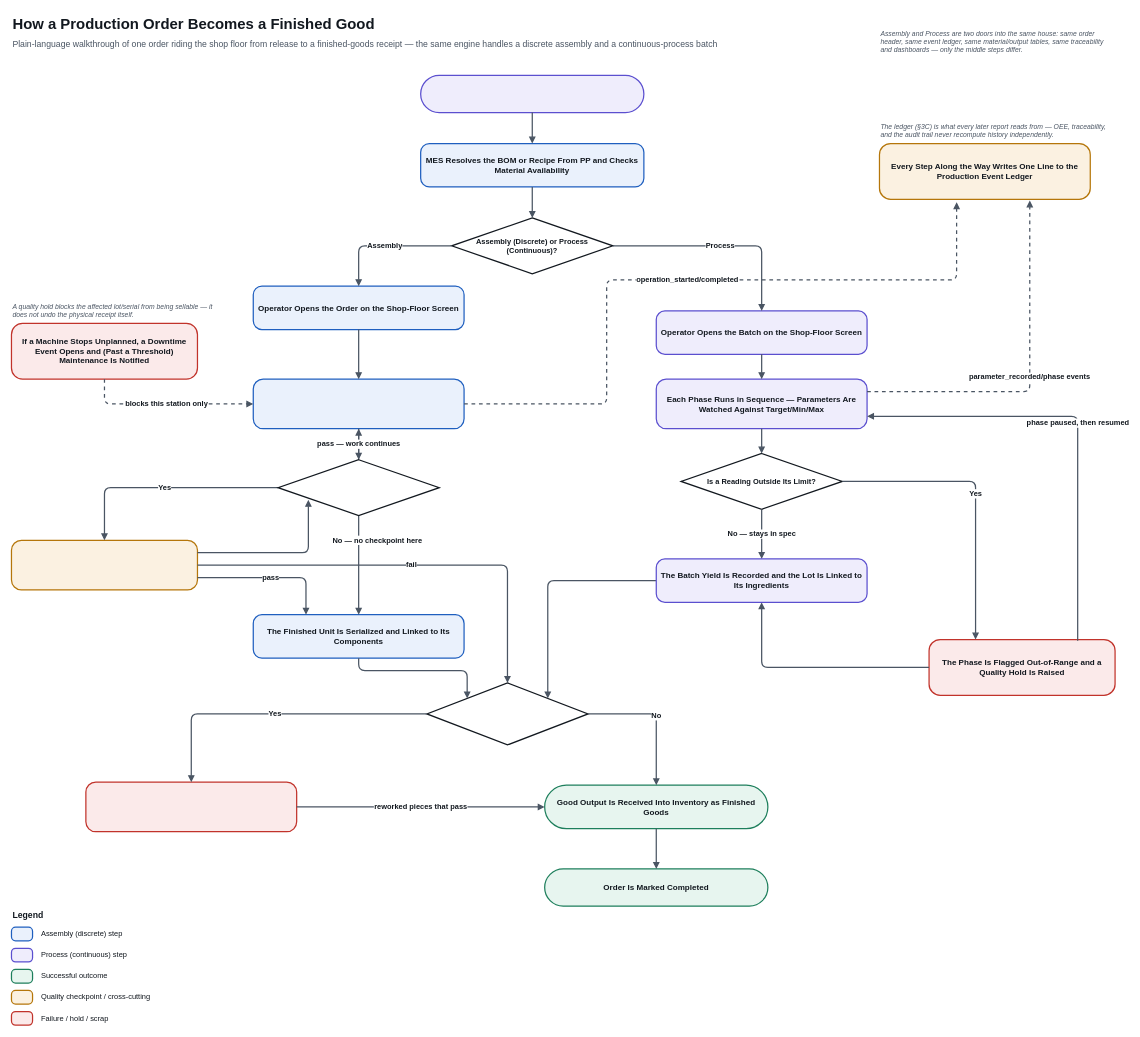
The diagram is 1140 pixels wide and 1037 high, and some of its shapes have lost their labels. The centre of each missing label's shape, as x and y in pixels:
"A Planner Releases a Production Order" belongs at (532,93).
"A Sample Is Taken and Checked Against Spec" belongs at (104,564).
"Did Anything Fail Quality?" belongs at (507,713).
"Does a Quality Checkpoint Apply to This Step?" belongs at (358,487).
"Each Operation Runs in Sequence — Start, Consume Components, Complete" belongs at (358,403).
"The Failed Quantity Is Scrapped or Sent to Rework, Then Re-Inspected" belongs at (191,806).
